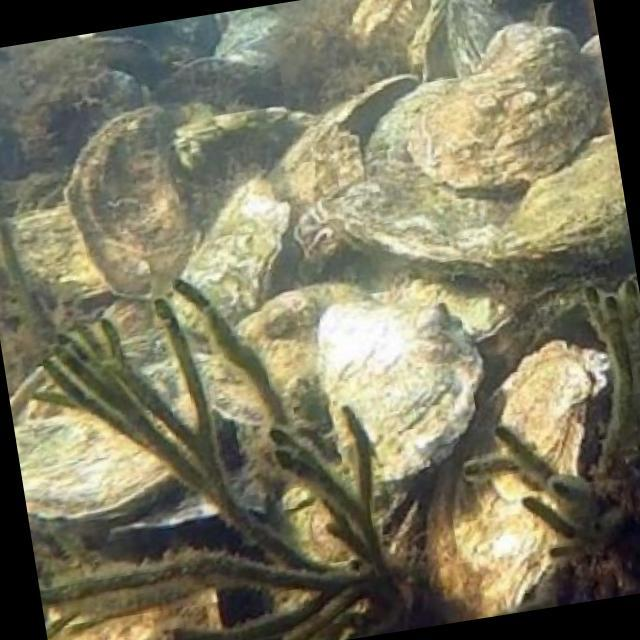Oyster- Indeterminate: (421, 348, 612, 624), (404, 27, 595, 199), (316, 287, 469, 477), (199, 282, 366, 436), (68, 115, 190, 306), (440, 0, 503, 71)
Oyster-Closed: (12, 389, 207, 520), (319, 159, 522, 272), (168, 184, 290, 335), (501, 141, 632, 272), (343, 0, 428, 50), (406, 0, 447, 73)
Oyster-Open: (326, 68, 454, 171)
